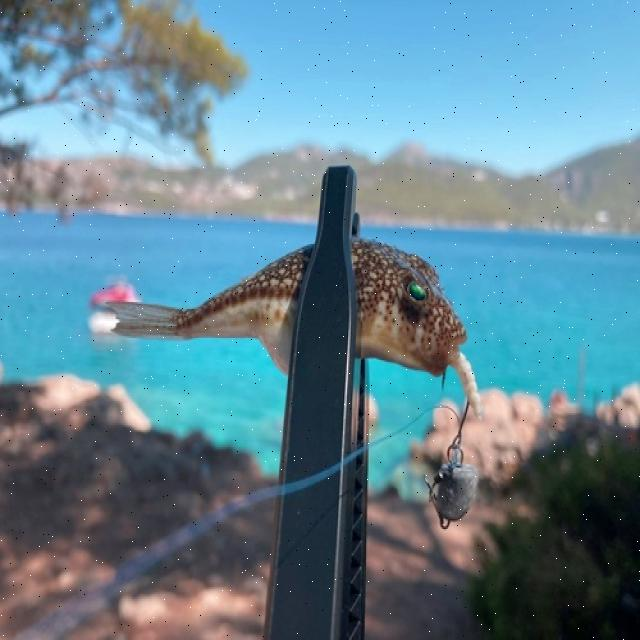Balik: (111, 246, 312, 373)
